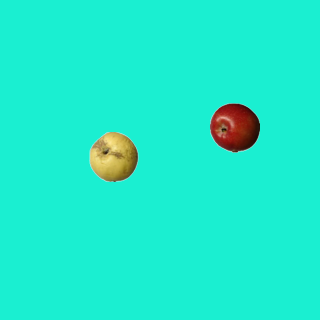Apple Braeburn: (209, 102, 259, 152)
Apple Golden 1: (88, 131, 138, 181)
